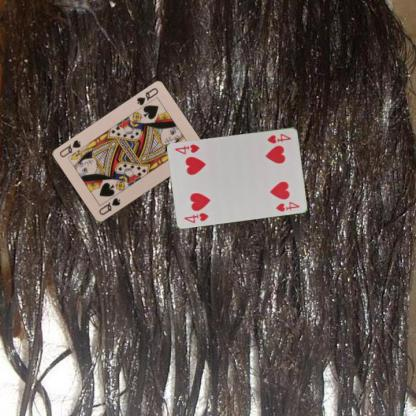4h: (182, 210, 210, 224), (265, 130, 292, 144)
Qs: (134, 85, 160, 107), (96, 195, 121, 217)
